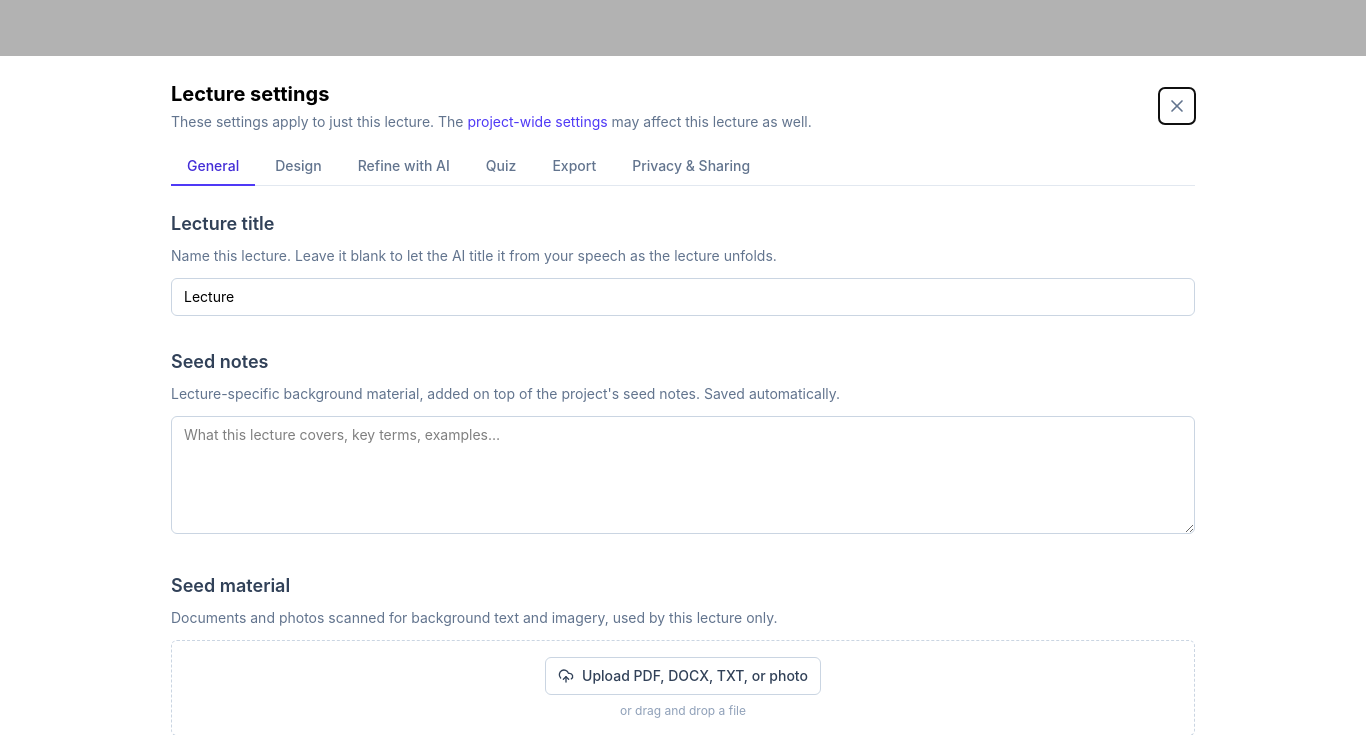
Scenario: DeckSettingsModal — Refine tab › starts toggles from the lecture-saved settings
Click the tab "Refine with AI" at x=404, y=167, box top-left (342, 148), bottom-right (466, 186)
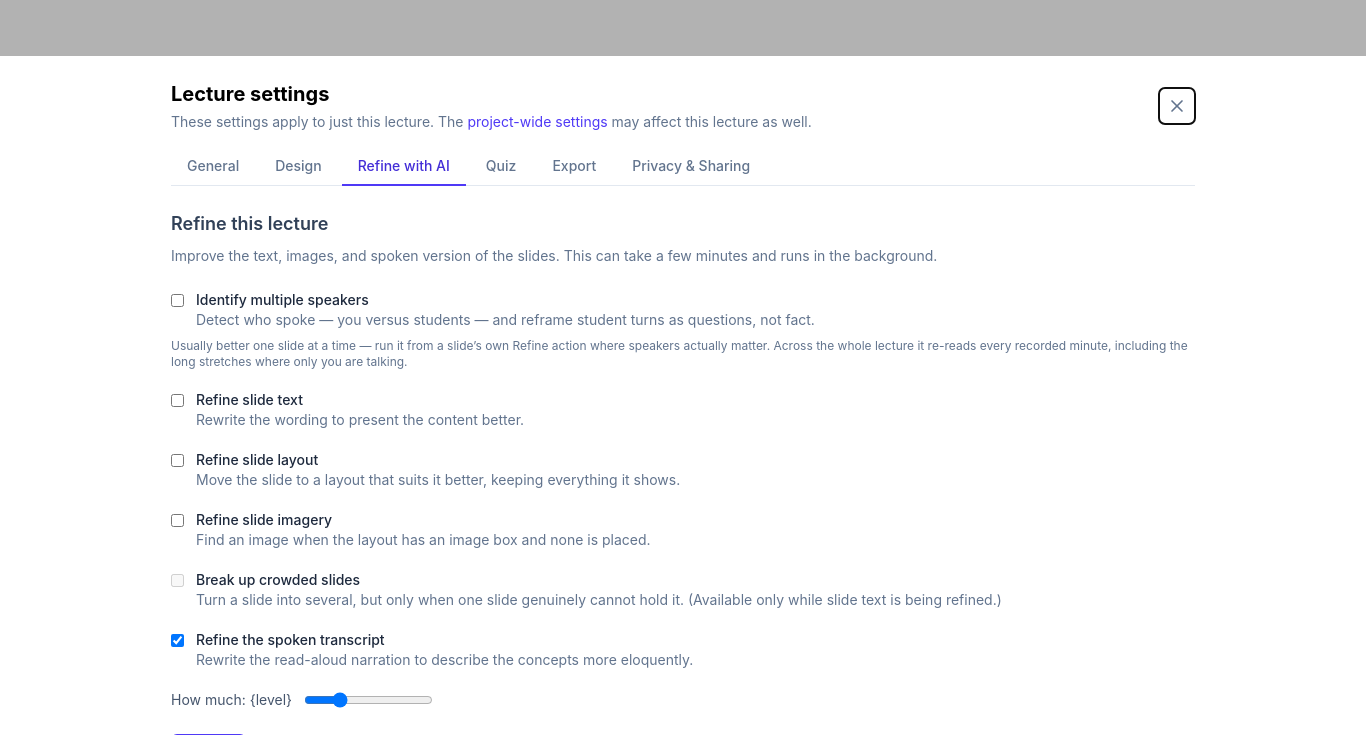
Result: the checkbox labelled "Refine slide text" is not checked at top-left (171, 394), bottom-right (184, 407)
Result: the checkbox labelled "Refine slide imagery" is not checked at top-left (171, 514), bottom-right (184, 527)
Result: the checkbox labelled "Refine the spoken transcript" is checked at top-left (171, 634), bottom-right (184, 647)
